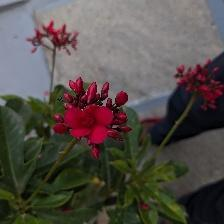jatropha: (67, 101, 119, 163)
